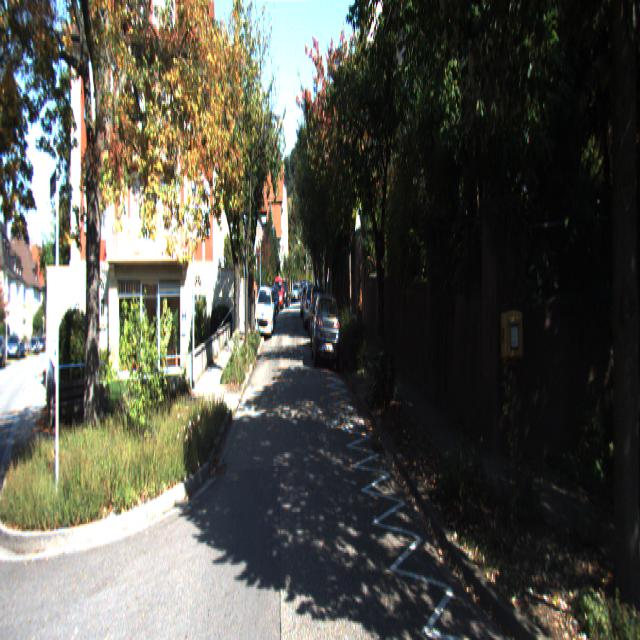Car: (310, 292, 340, 375), (254, 286, 274, 342)
